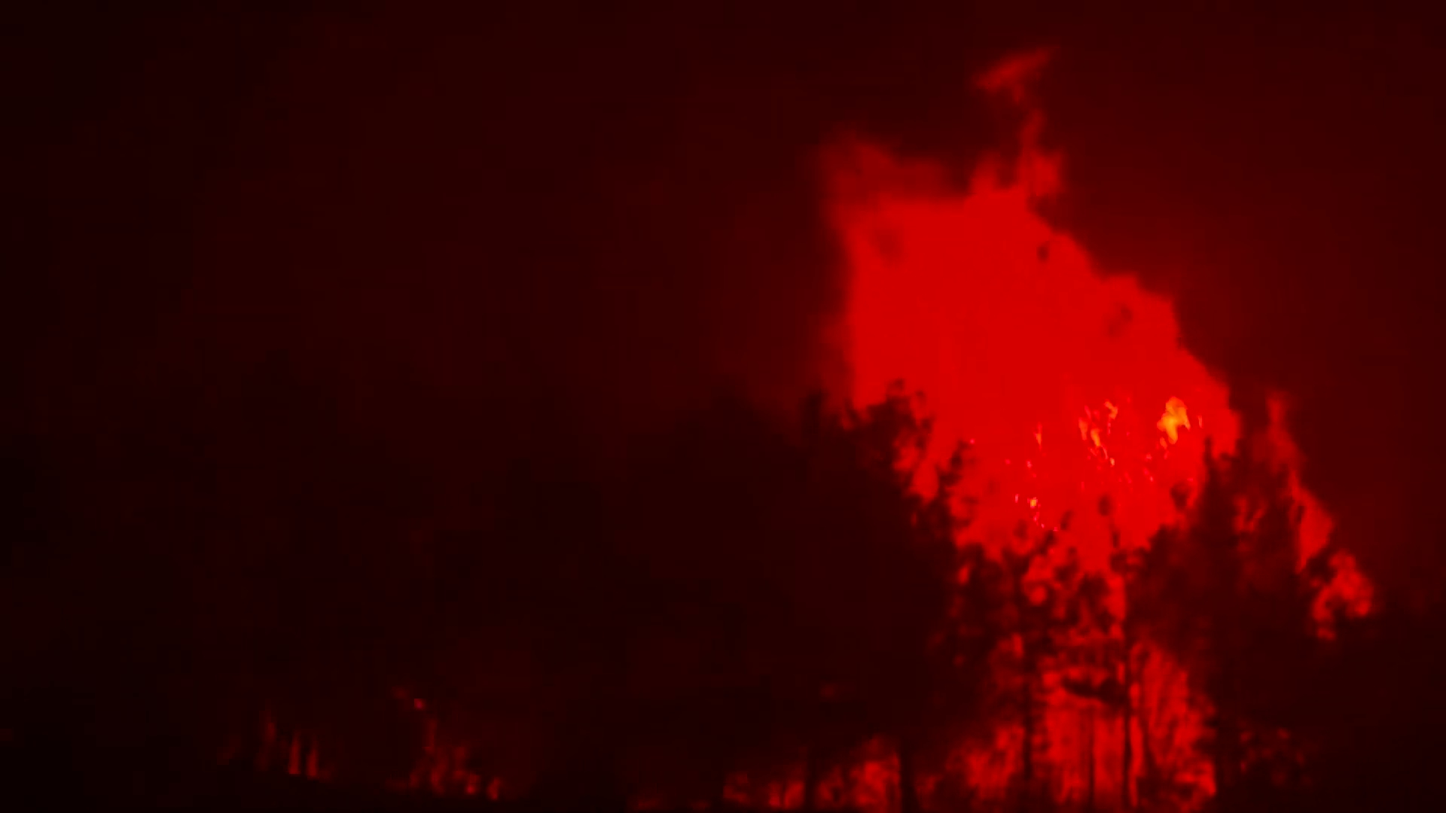forest_fire: (831, 107, 1240, 568)
